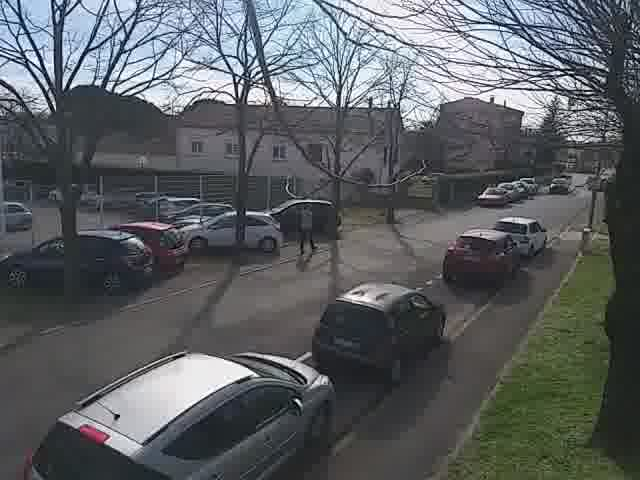persona: (290, 198, 320, 259)
